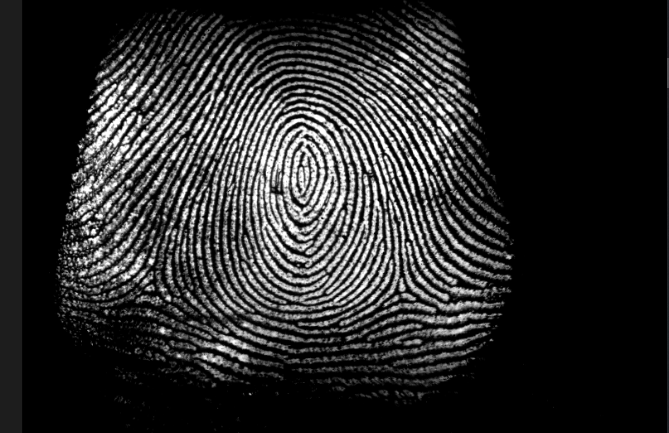nucelo: (287, 132, 319, 206)
verticilo: (382, 271, 417, 311), (137, 263, 168, 303)
